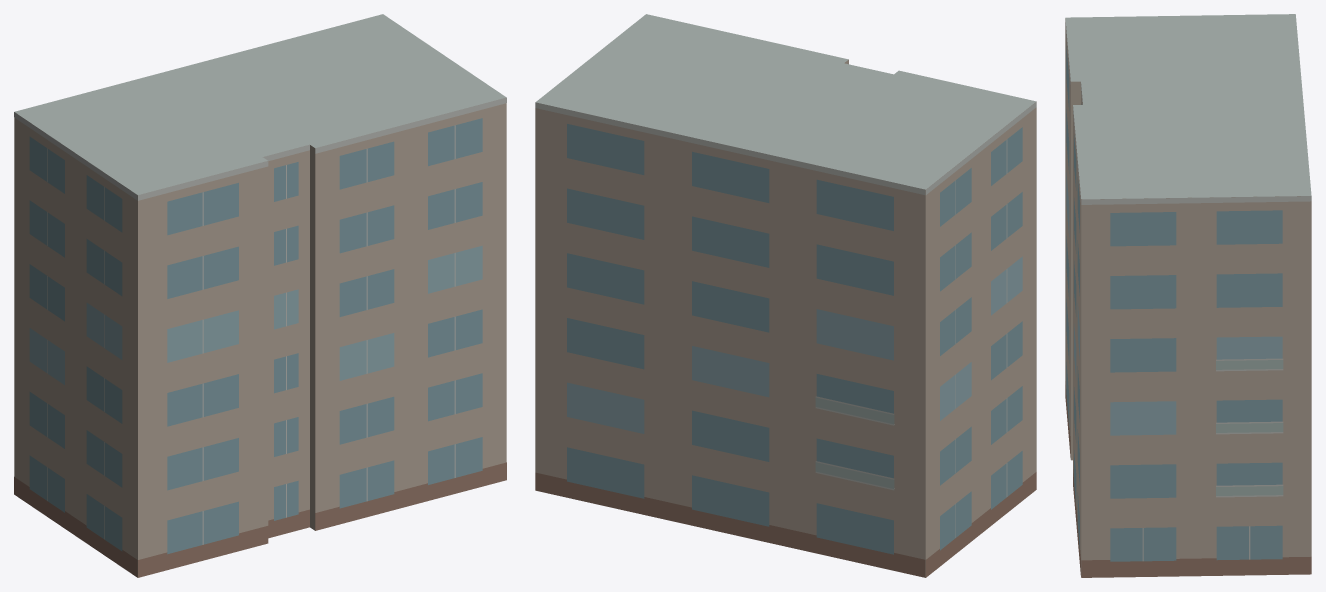
File: survey-upis-32709876.glb
3 renders of one model, left to right at view 1: azimuth 30°, elevation 25°; view 2: azimuth 150°, elevation 25°; view 3: azimuth 270°, elevation 25°, orthographic. The views are drawn at different scales.
Visible parts, largest first — view 1: survey-upis-32709876.tmp; view 2: survey-upis-32709876.tmp; view 3: survey-upis-32709876.tmp.
Boxes of the visible parts, x1,y1,x2,y2 form: survey-upis-32709876.tmp: (14, 14, 506, 577); survey-upis-32709876.tmp: (535, 14, 1036, 577); survey-upis-32709876.tmp: (1065, 14, 1311, 577).
Size of the model in its own units: 17.45 by 16.6 by 9.8.
